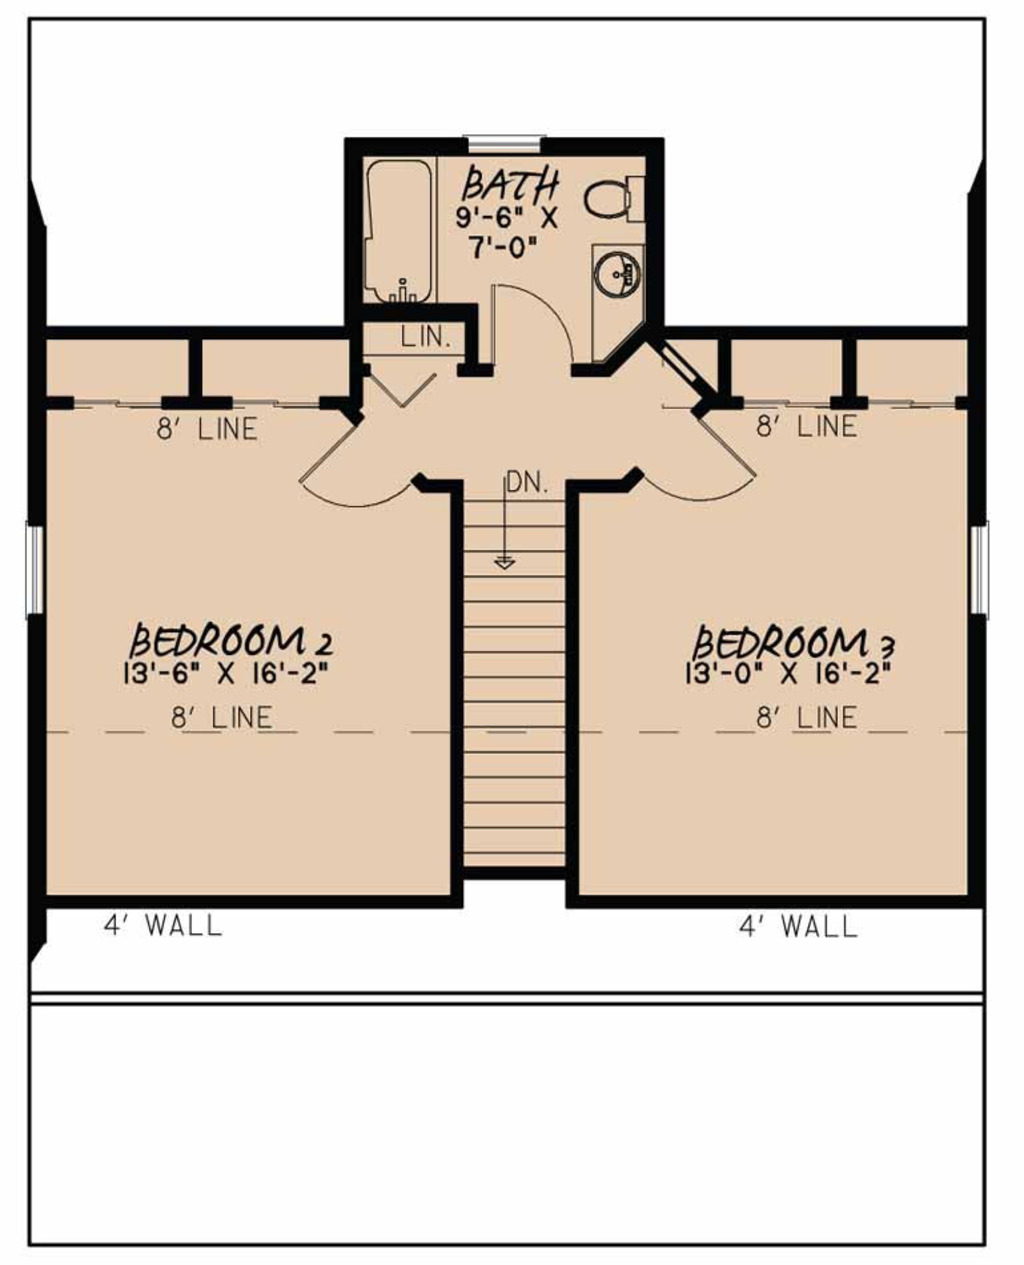door: (279, 397, 420, 517), (453, 262, 581, 379), (622, 411, 763, 515)
large_sink: (575, 156, 653, 230)
small_sink: (583, 238, 648, 330)
stairs: (424, 479, 614, 893)
tub: (344, 146, 467, 317)
window: (6, 513, 55, 632), (959, 526, 1001, 622), (457, 128, 540, 156)
